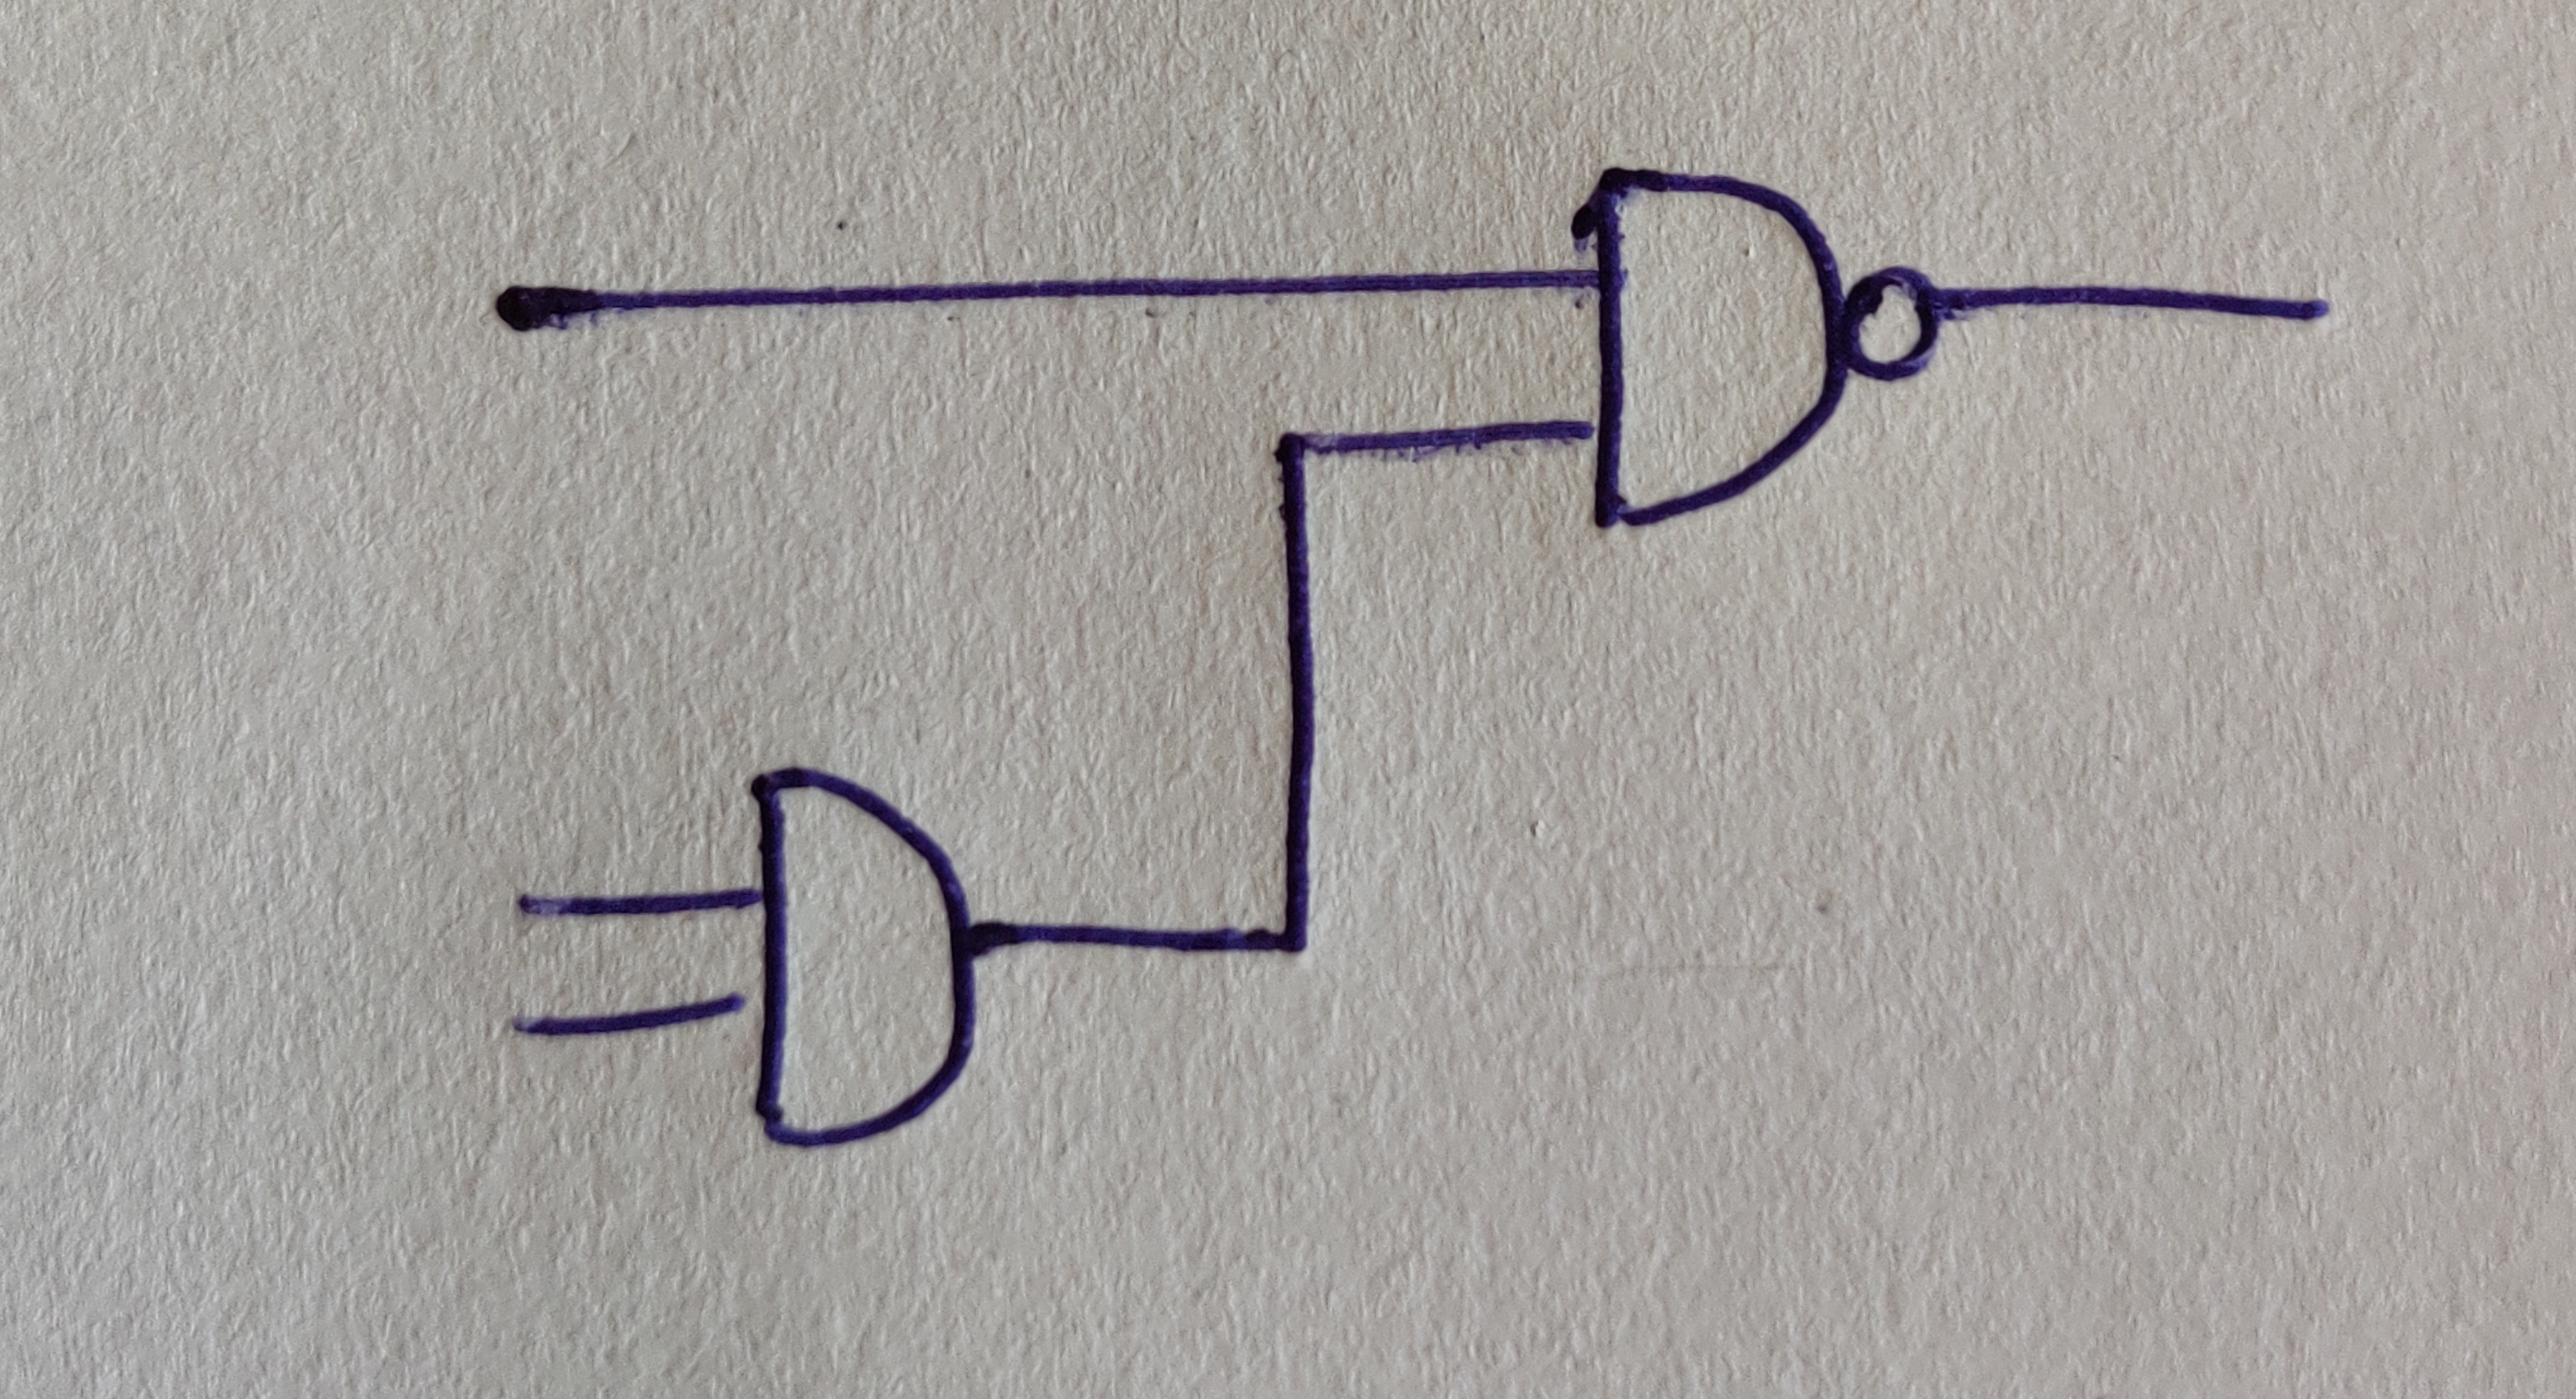and: (1590, 172, 1845, 525), (753, 767, 975, 1147)
not: (1844, 267, 1938, 382)
